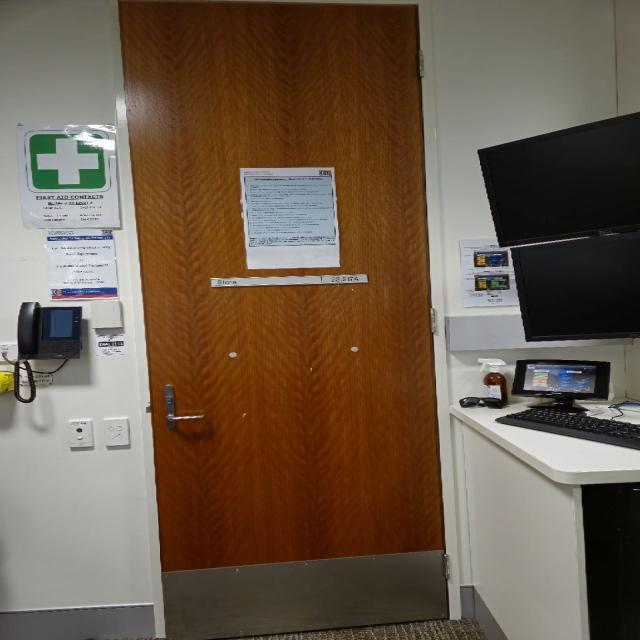doorhandle: (121, 0, 444, 640), (161, 404, 219, 433)
